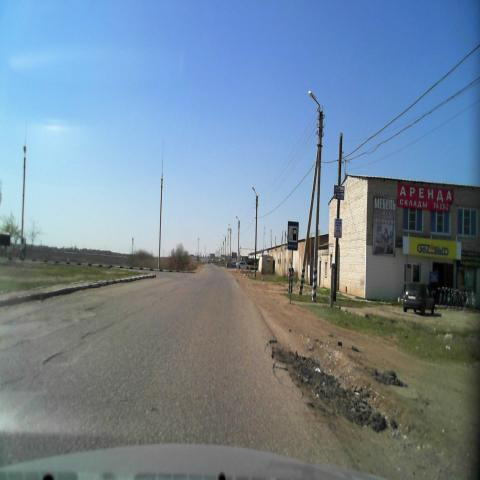7_3: (287, 220, 299, 250)
